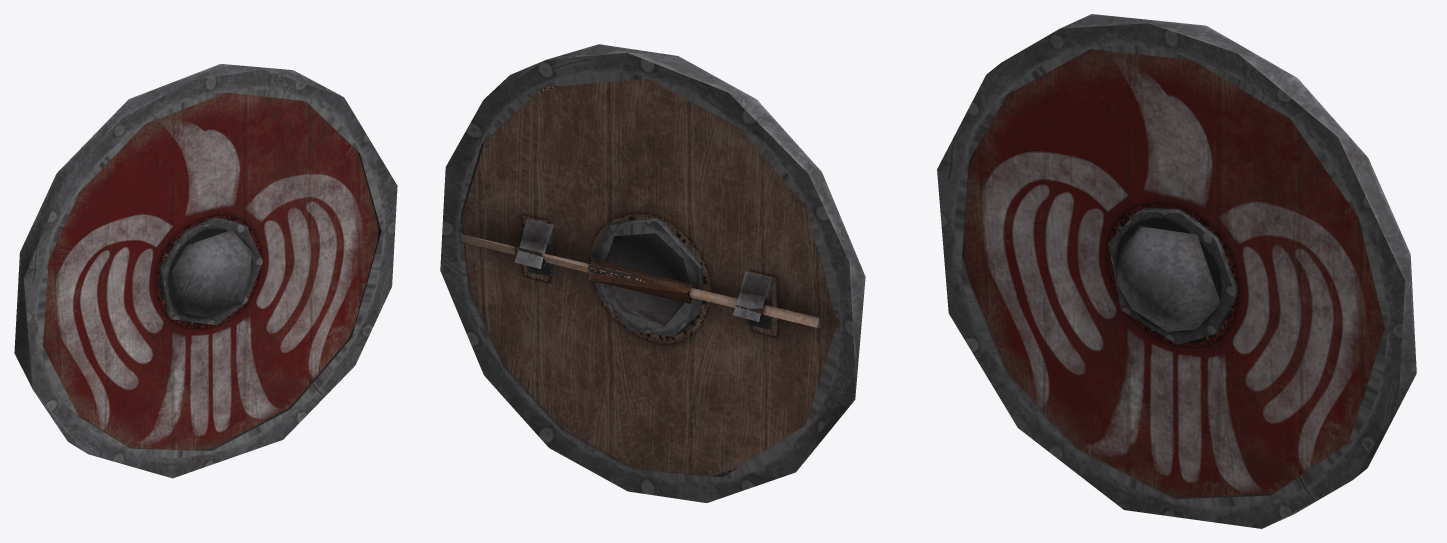
The model's file is Schild_LOD1.dae.
3 views of the same model, side by side, from view 1: azimuth 30°, elevation 25°; view 2: azimuth 150°, elevation 25°; view 3: azimuth 330°, elevation 25° (orthographic). The views are drawn at different scales.
Parts seen in each view (by area): view 1: Schild_LOD1; view 2: Schild_LOD1; view 3: Schild_LOD1.
Boxes of the visible parts, x1,y1,x2,y2 form: Schild_LOD1: (14,64,397,478); Schild_LOD1: (440,44,865,502); Schild_LOD1: (937,14,1416,528).
Bounding box in the file's own units: 0.85 × 0.1356 × 0.85.
Materials: 1 (1 with a texture image).
